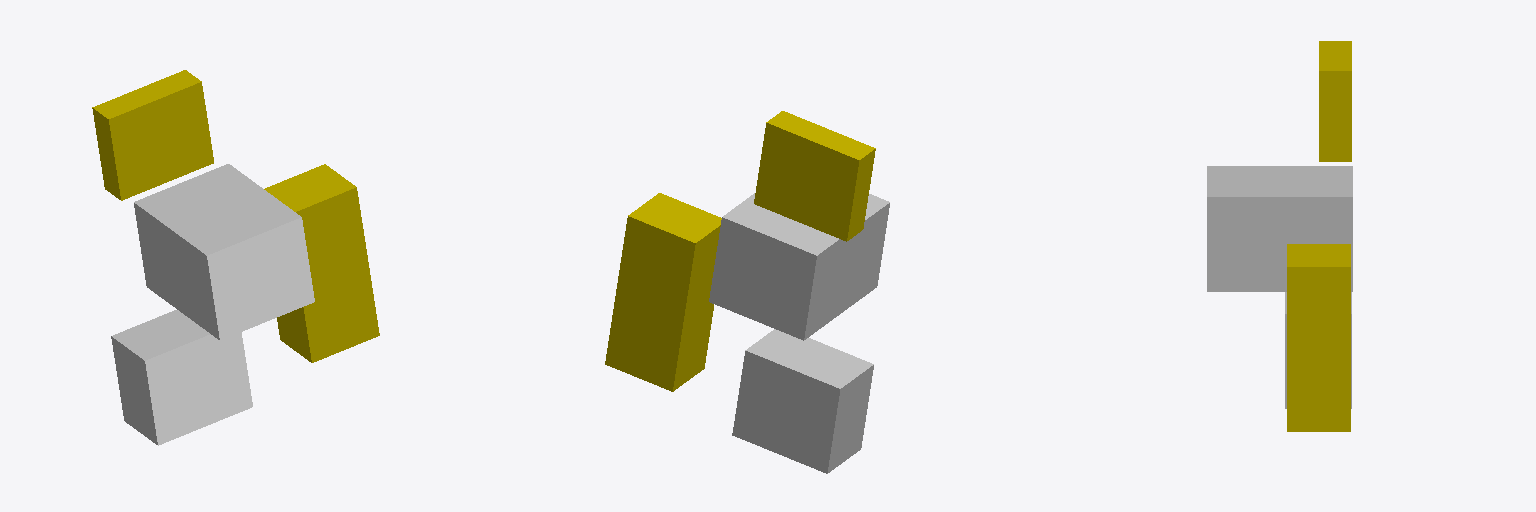
File: FakeData-1.obj
The picture shows the model from 3 angles: view 1: azimuth 30°, elevation 25°; view 2: azimuth 150°, elevation 25°; view 3: azimuth 270°, elevation 25°; orthographic projection.
Parts seen in each view (by area): view 1: Cube.007; view 2: Cube.007; view 3: Cube.007.
Part boxes in pixels (x1,y1,x2,y2): Cube.007: (92, 70, 379, 445); Cube.007: (605, 111, 889, 473); Cube.007: (1207, 41, 1352, 431).
Size of the model in its own units: 7.58 by 9.56 by 3.77.